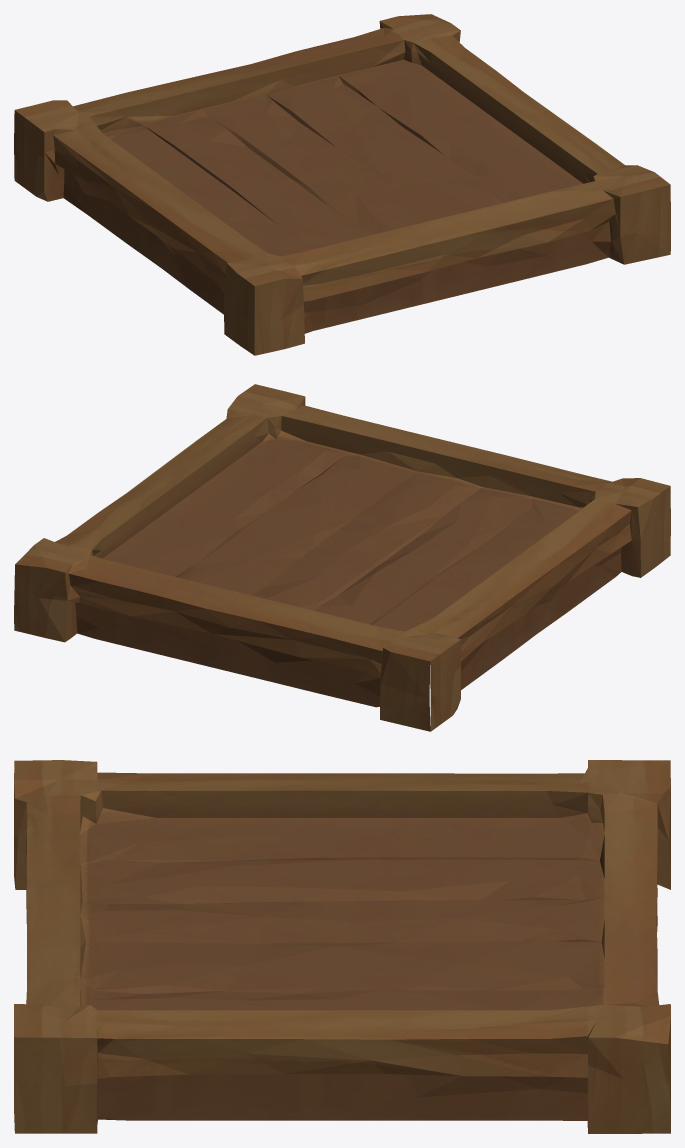
Rendered from wooden pallet 3d model.glb.
The picture shows the model from 3 angles, top to bottom: view 1: azimuth 30°, elevation 25°; view 2: azimuth 150°, elevation 25°; view 3: azimuth 270°, elevation 25°; orthographic projection. The views are drawn at different scales.
Parts seen in each view (by area): view 1: tripo_node_7b9292aa-abd4-460b-b62c-8cae64465109; view 2: tripo_node_7b9292aa-abd4-460b-b62c-8cae64465109; view 3: tripo_node_7b9292aa-abd4-460b-b62c-8cae64465109.
Part boxes in pixels (bbox=[...]): tripo_node_7b9292aa-abd4-460b-b62c-8cae64465109: bbox=[14, 14, 670, 355]; tripo_node_7b9292aa-abd4-460b-b62c-8cae64465109: bbox=[14, 384, 670, 731]; tripo_node_7b9292aa-abd4-460b-b62c-8cae64465109: bbox=[14, 760, 670, 1133].
Size of the model in its own units: 1 by 0.162 by 1.
1 material, 1 textured.
